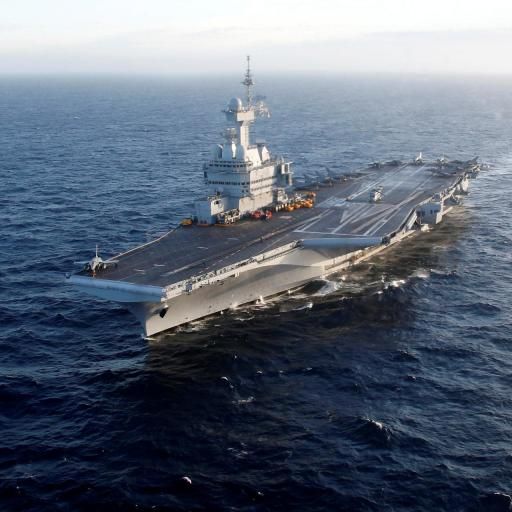Portanaves: (59, 51, 492, 348)
